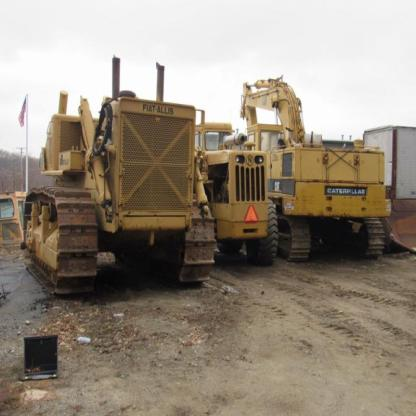bull_dozer/loader/grader: (23, 57, 221, 300)
